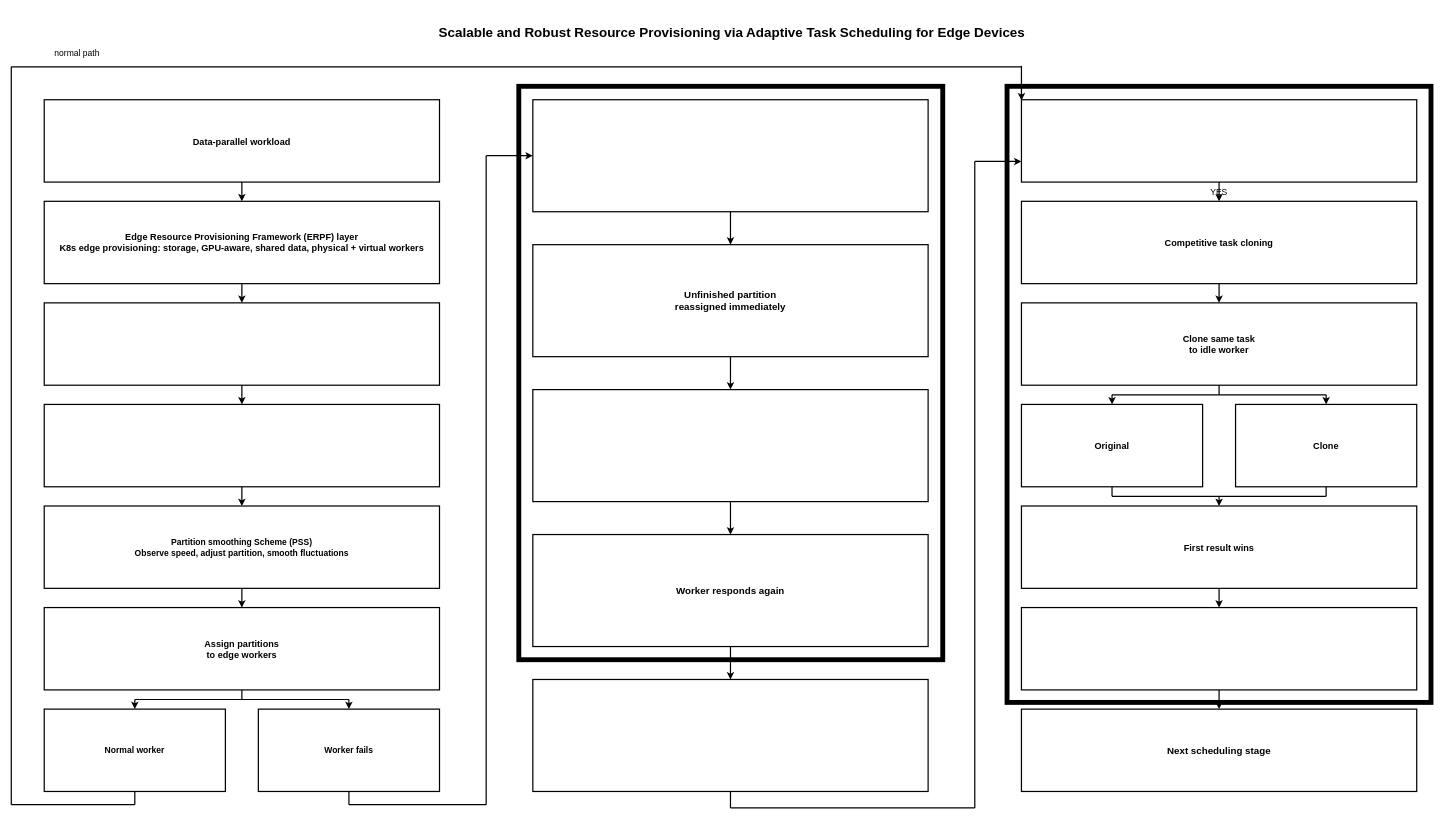
Image size: 1444x820. Some labels were removed from this diagram. Each missing label, with the centre of its shape:
Cancel slower duplicate: [1219,648]
eATS scheduler: [241,344]
Mark ONLINE + reinsert: [730,735]
Partition workload into independent task units: [241,445]
Periodic health check: [730,445]
Resilient Edge Reintegration (RER) marks OFFLINE: [730,155]
Slow / straggler task?: [1219,140]
